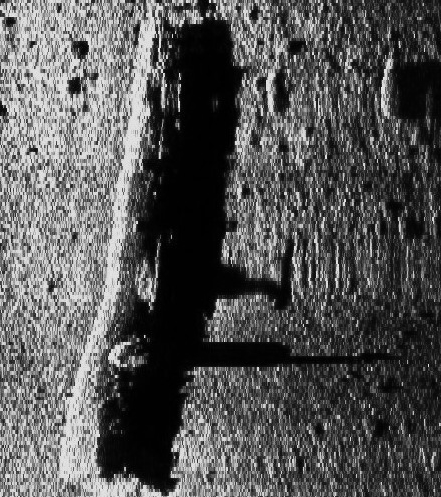ship: (266, 15, 380, 479)
